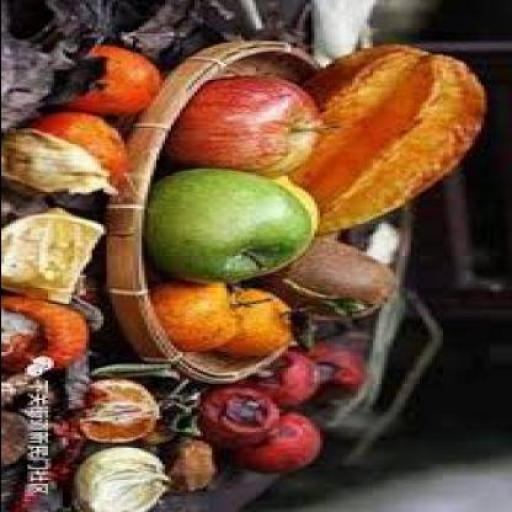biodegradable: (310, 41, 486, 235), (149, 166, 316, 281), (173, 75, 322, 174), (243, 235, 403, 318), (3, 206, 105, 299), (48, 38, 160, 118), (68, 444, 170, 511), (2, 128, 108, 192), (29, 108, 129, 175), (3, 301, 91, 370), (284, 341, 368, 407), (234, 410, 322, 471), (74, 376, 154, 440), (166, 281, 240, 348), (226, 286, 296, 355), (201, 383, 275, 444), (155, 436, 217, 492), (255, 352, 316, 406), (56, 412, 88, 511), (152, 398, 205, 443), (62, 346, 91, 407), (73, 299, 105, 329)
